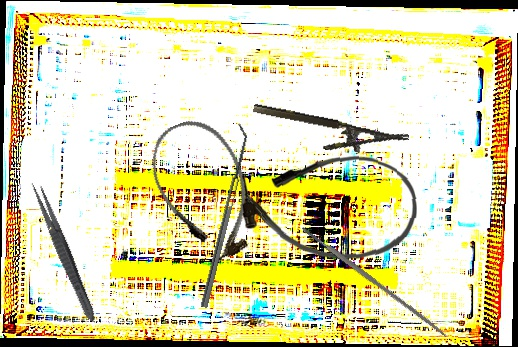Cannula: (138, 108, 270, 273), (238, 148, 420, 264)
Dressing Forceps: (27, 179, 100, 324)
Needle Holder: (248, 101, 410, 167)
Scalpel Handle: (300, 224, 449, 339)
Spatula Surgical: (193, 123, 253, 308)
